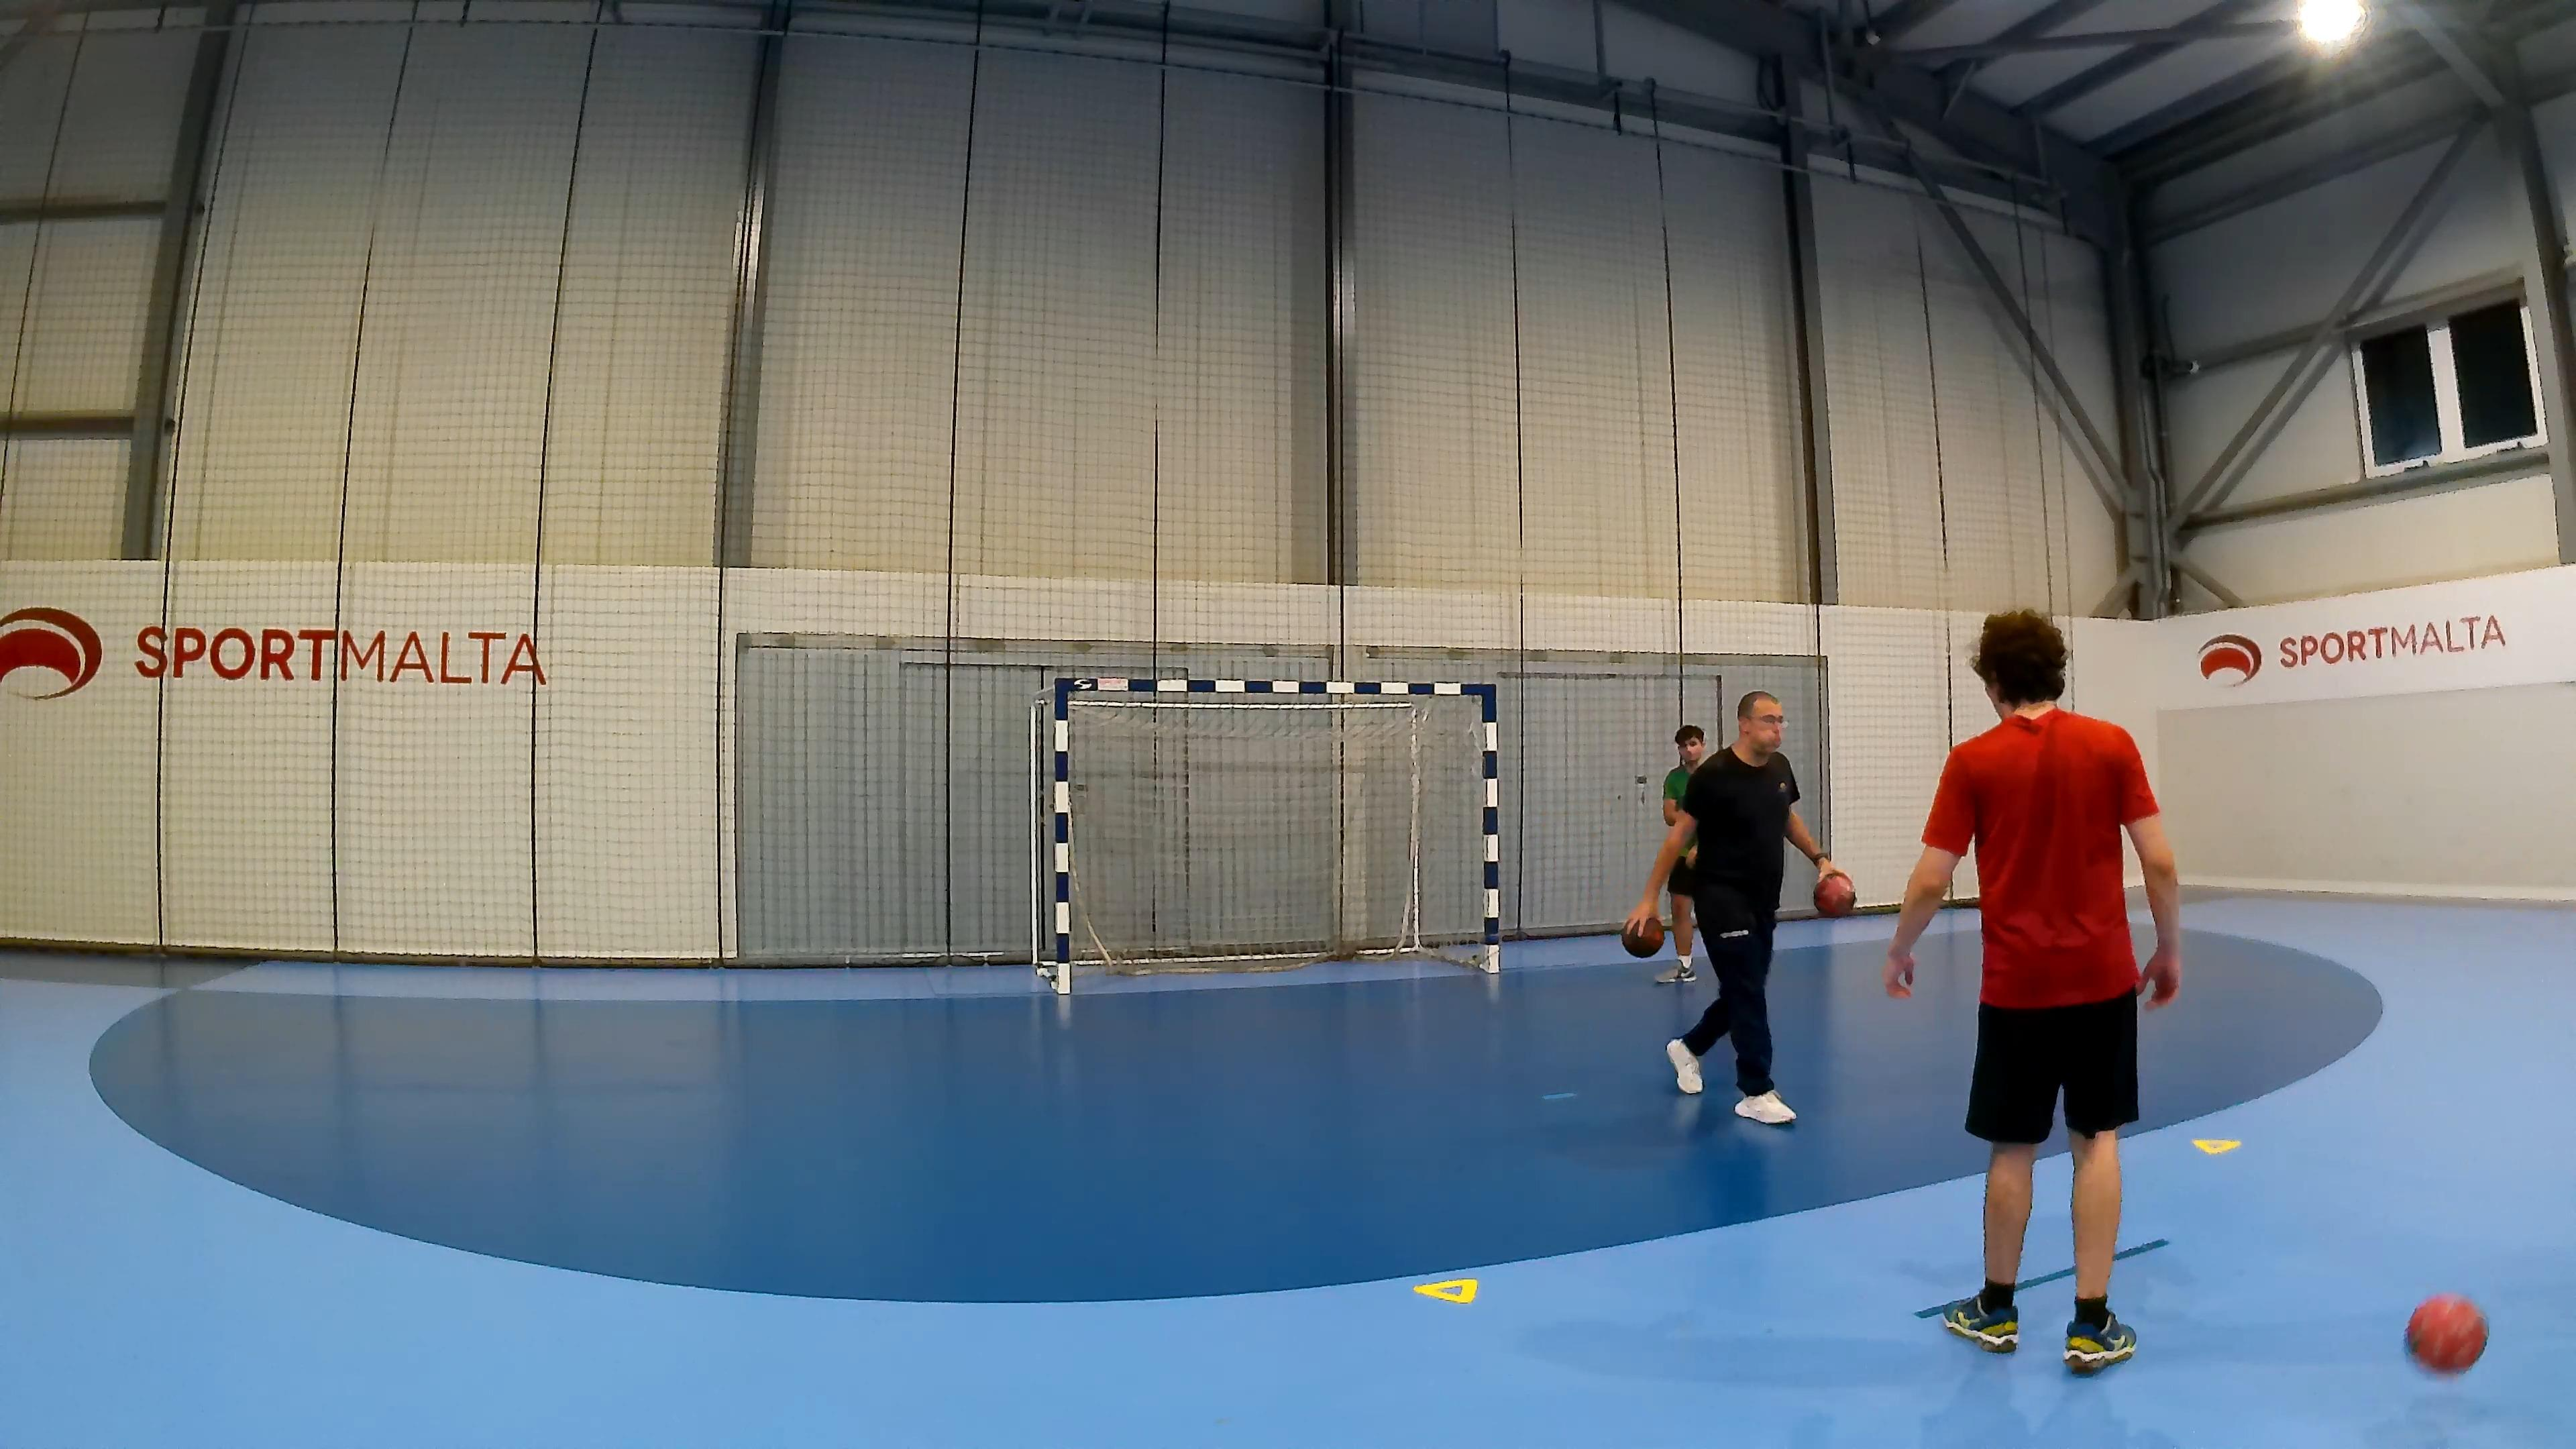handball: (2404, 1292, 2488, 1373), (1812, 869, 1854, 916), (1621, 915, 1663, 957)
